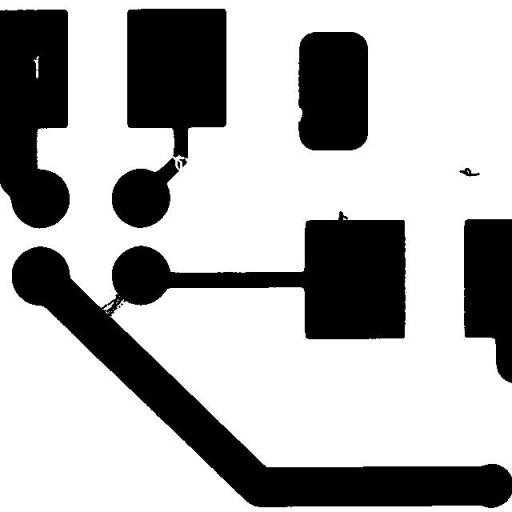copper: (451, 160, 487, 184)
mousebite: (287, 99, 310, 129)
open: (162, 148, 204, 178)
pin-hole: (26, 48, 46, 86)
short: (88, 283, 139, 327)
spur: (330, 203, 356, 234)
